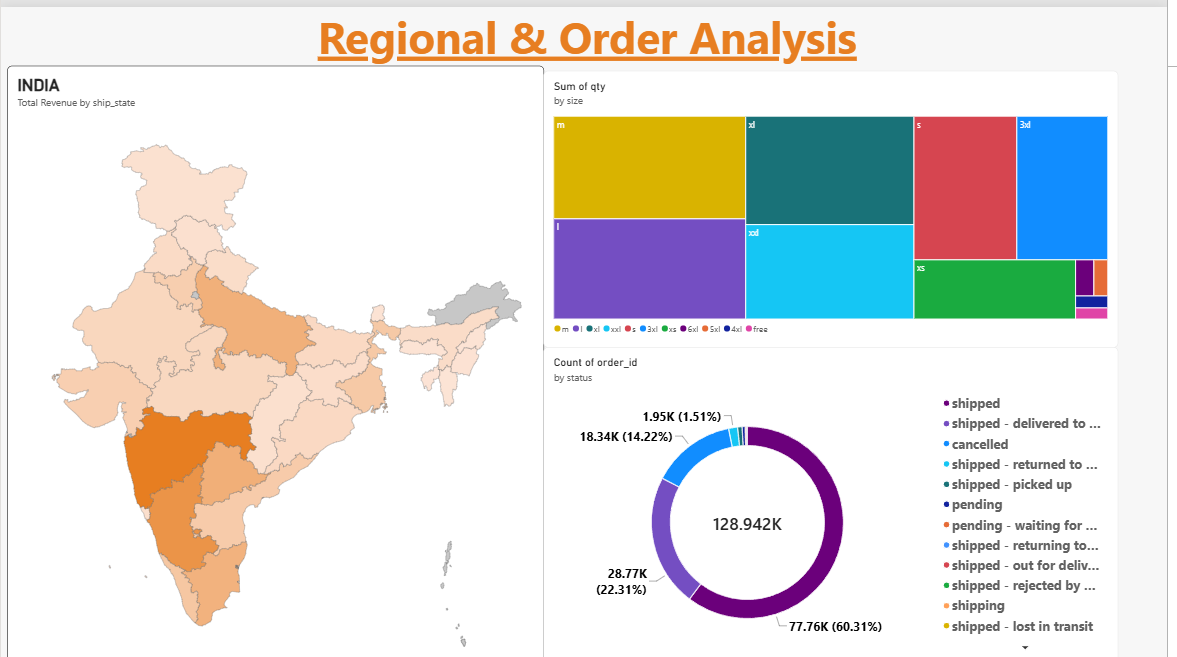

The page's visual inventory and layout, read from the dashboard file:
{"tool":"powerbi","page":{"name":"Page 3","canvas":[1920,1080],"ordinal":2},"visuals":[{"type":"textbox","box":[10.3,0,1910.1,148.2],"z":0},{"type":"shapeMap","title":"INDIA","fields":{"Category":["Sheet1.ship_state"],"Value":["Sheet1.Total Revenue"]},"box":[10,96,884,984],"z":1},{"type":"treemap","fields":{"Group":["Sheet1.size"],"Values":["Sum(Sheet1.qty)"]},"box":[894,104,946,456],"z":2},{"type":"donutChart","fields":{"Category":["Sheet1.status"],"Y":["CountNonNull(Sheet1.order_id)"]},"box":[894,560,946,520],"z":3}]}

Visuals, with their boxes in screenshot pixels (x1, y1, x2, y2), scaled from the page's 1920x1080 canvas onto the 1177x657 screenshot:
textbox: bbox=[6, 0, 1176, 90]
"INDIA" shapeMap: bbox=[6, 58, 548, 656]
treemap - Sheet1.size x Sum(Sheet1.qty): bbox=[548, 63, 1128, 341]
donutChart - Sheet1.status x CountNonNull(Sheet1.order_id): bbox=[548, 341, 1128, 656]
